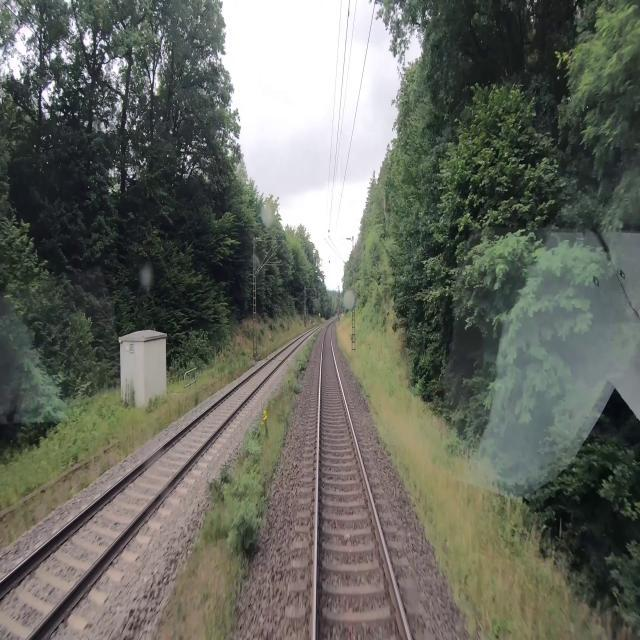Plant: (147, 327, 324, 639)
